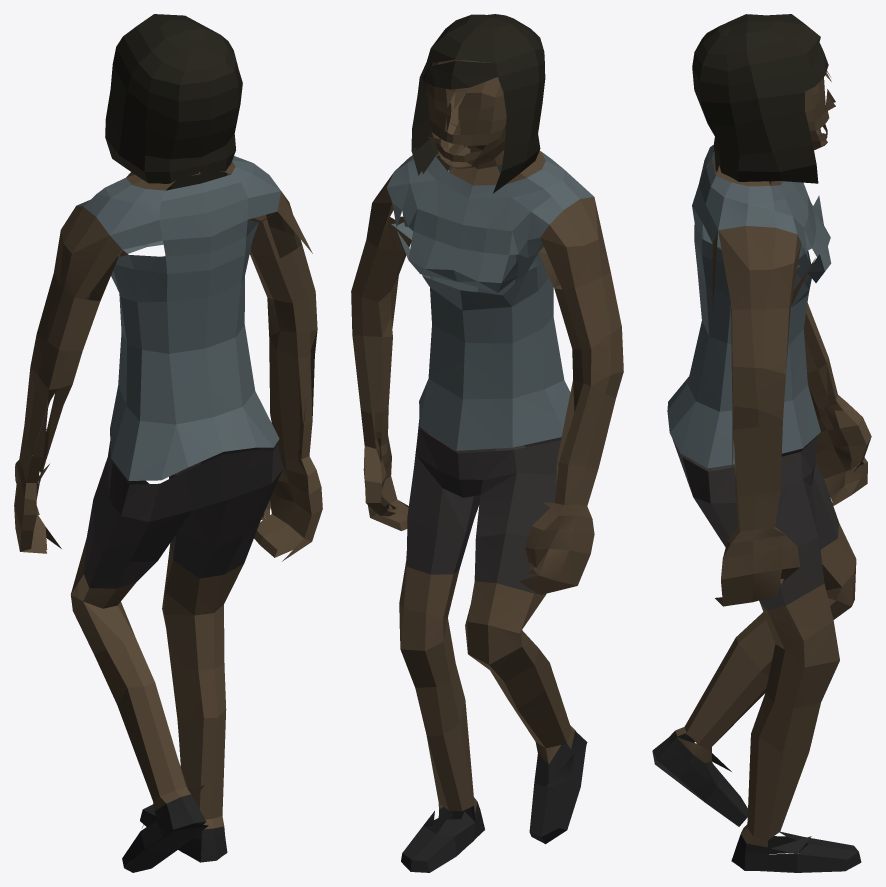
Rendered from person_5_w0.fbx.
The picture shows the model from 3 angles, left to right: view 1: azimuth 30°, elevation 25°; view 2: azimuth 150°, elevation 25°; view 3: azimuth 270°, elevation 25°; orthographic projection.
Visible parts, largest first — view 1: BaseHuman.000; view 2: BaseHuman.000; view 3: BaseHuman.000.
Part boxes in pixels (<box>): BaseHuman.000: <box>14,14,322,872</box>; BaseHuman.000: <box>351,14,623,872</box>; BaseHuman.000: <box>652,14,871,872</box>.
Size of the model in its own units: 0.3298 by 0.9995 by 0.2394.
